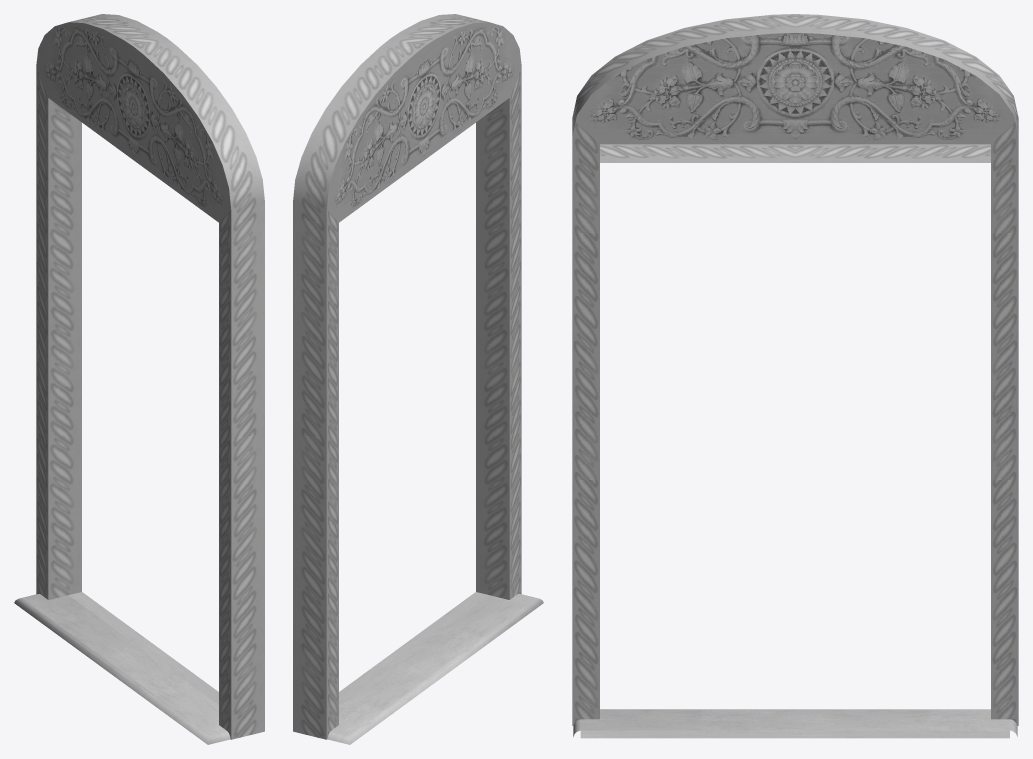
The model's file is wood_panneling_door_frame_01_white.DAE.
3 renders of one model, left to right at view 1: azimuth 30°, elevation 25°; view 2: azimuth 150°, elevation 25°; view 3: azimuth 270°, elevation 25°, orthographic. The views are drawn at different scales.
Parts seen in each view (by area): view 1: Box029; view 2: Box029; view 3: Box029.
Boxes of the visible parts, <box> form: Box029: <box>14,14,264,744</box>; Box029: <box>293,14,543,744</box>; Box029: <box>572,14,1018,738</box>.
Size of the model in its own units: 0.3344 by 3.52 by 2.
